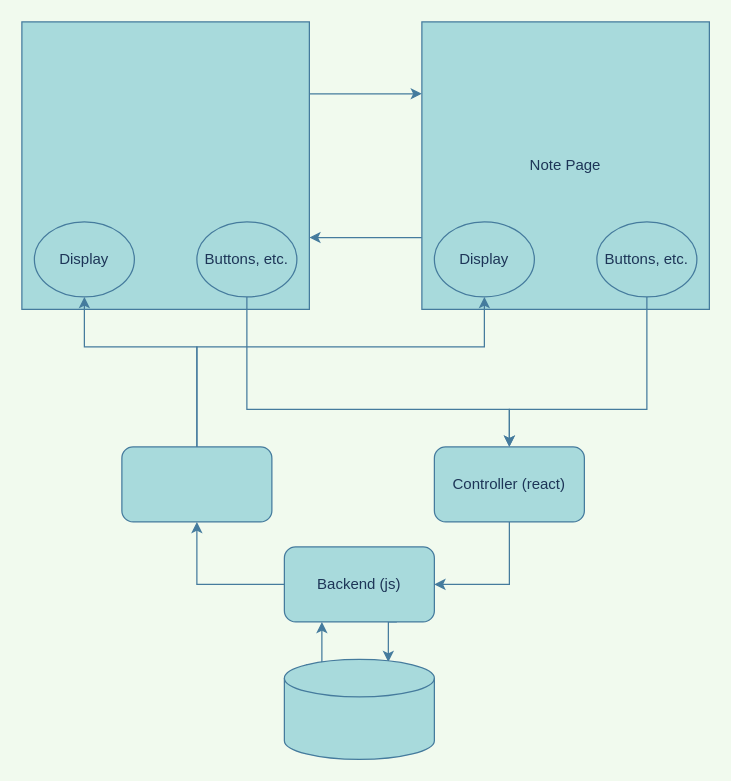
Image size: 731x781. Some labels were removed from this diagram. Here are the shapes that lost their labels. From the top down, the box of each, then its label:
(21, 21, 309, 309): Main Page
(121, 446, 272, 522): View (react)
(283, 658, 434, 759): Database
